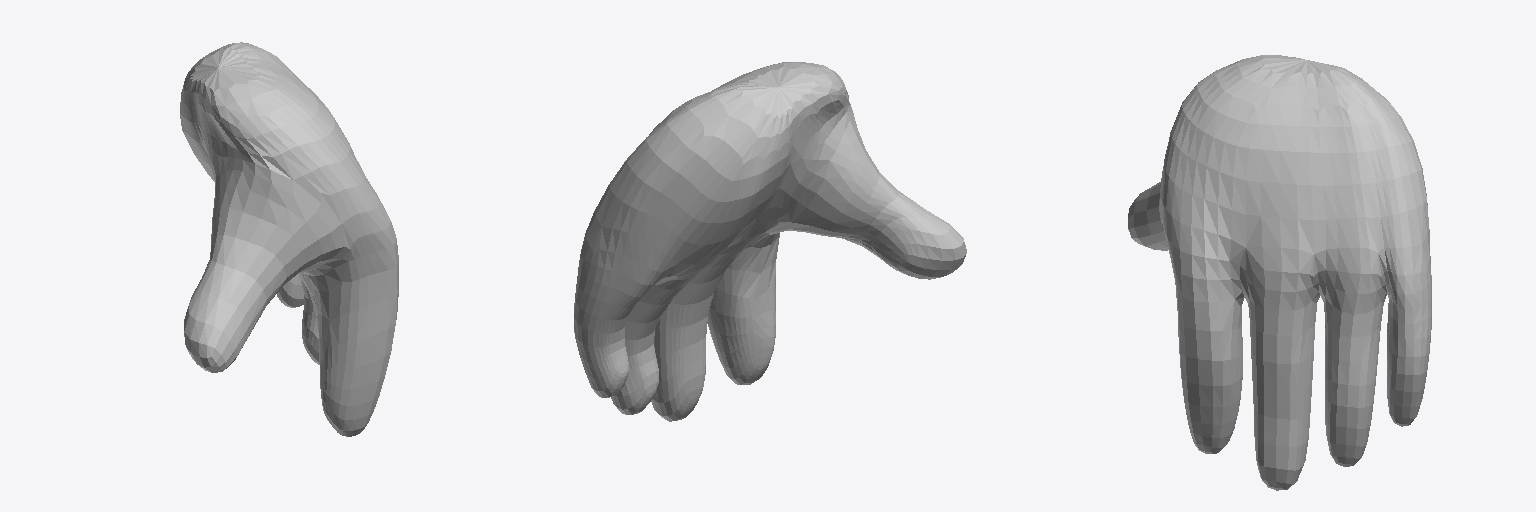
Rendered from handL.obj.
The picture shows the model from 3 angles: view 1: azimuth 30°, elevation 25°; view 2: azimuth 150°, elevation 25°; view 3: azimuth 270°, elevation 25°; orthographic projection.
Visible parts, largest first — view 1: polySurface48 uploads_files_[number redacted]_Guts_man:Mesh; view 2: polySurface48 uploads_files_[number redacted]_Guts_man:Mesh; view 3: polySurface48 uploads_files_[number redacted]_Guts_man:Mesh.
Boxes of the visible parts, x1,y1,x2,y2 form: polySurface48 uploads_files_[number redacted]_Guts_man:Mesh: [180, 42, 398, 436]; polySurface48 uploads_files_[number redacted]_Guts_man:Mesh: [574, 62, 966, 421]; polySurface48 uploads_files_[number redacted]_Guts_man:Mesh: [1128, 55, 1431, 490].
Size of the model in its own units: 0.2478 by 0.3406 by 0.2511.